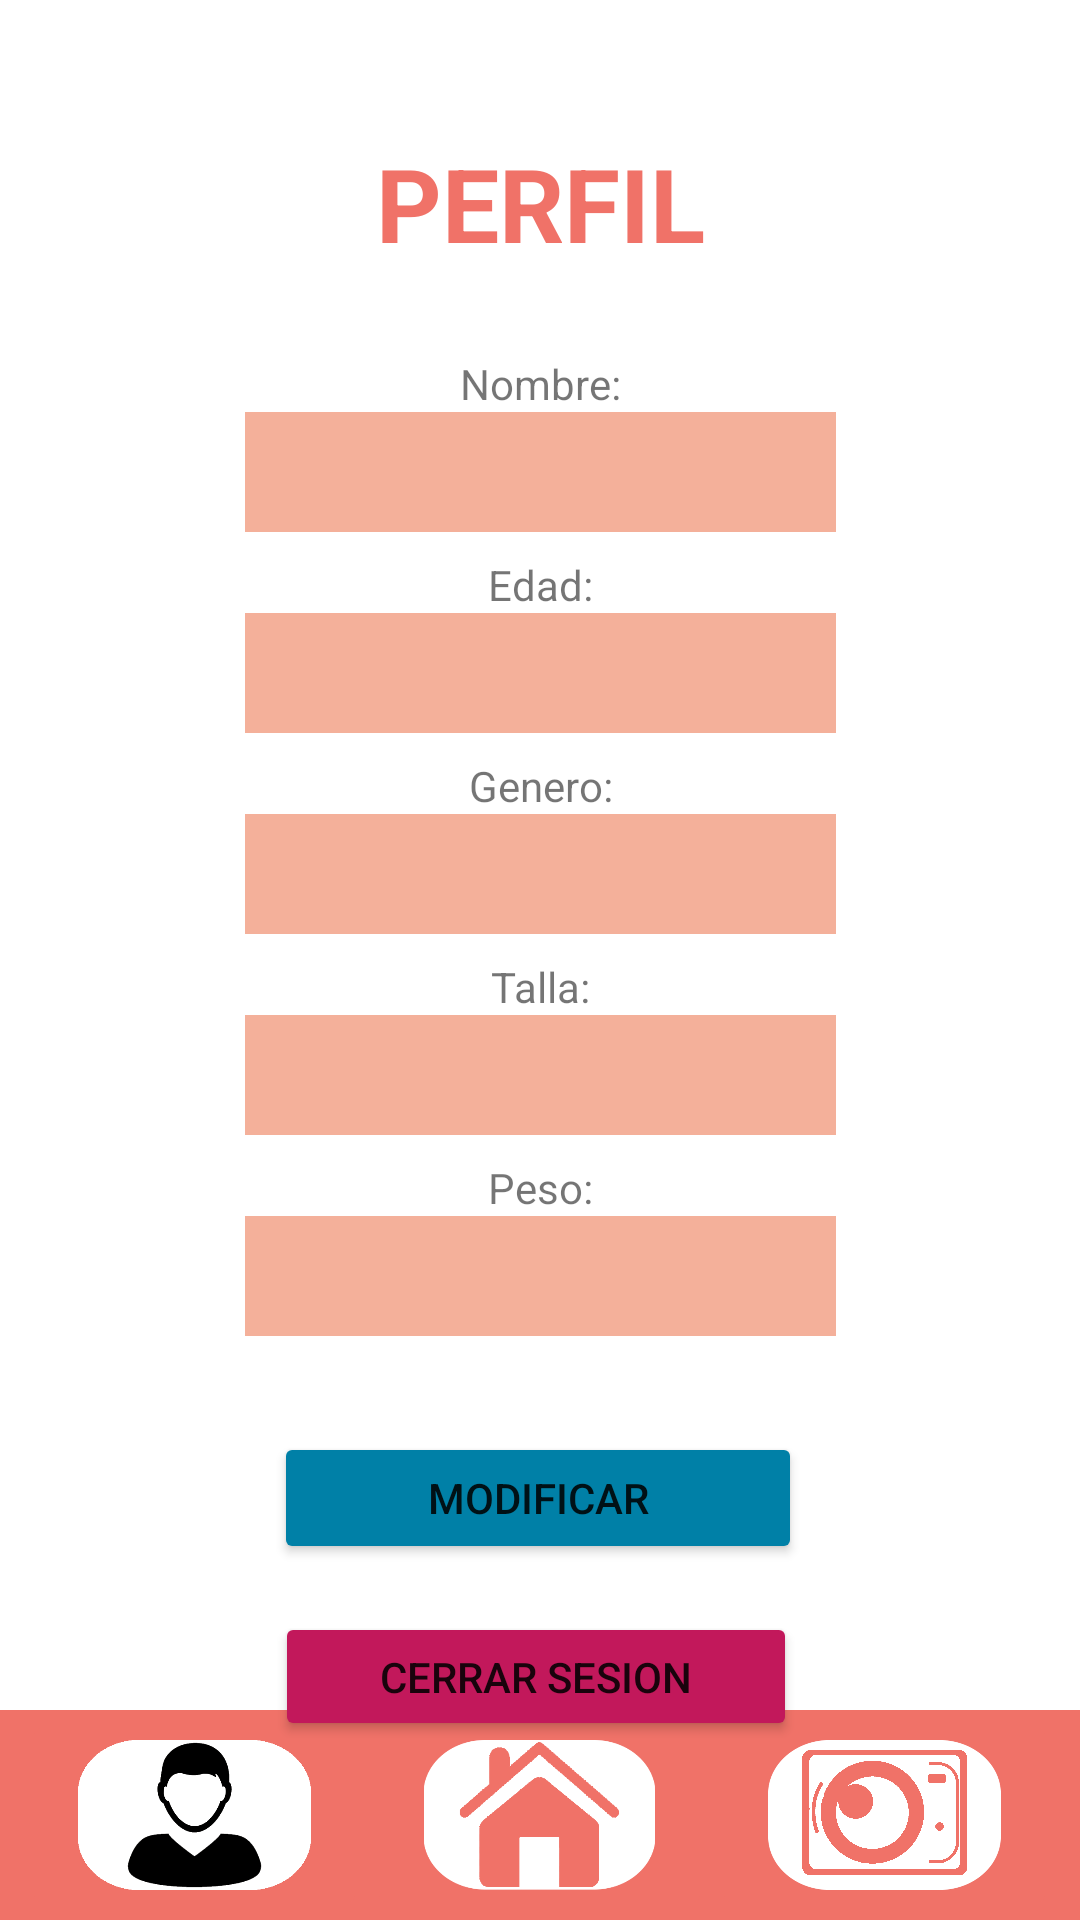

Where to tap for icons on this 1080px x 1920px app screen, as [x,y]:
cam off: [884,1815]
casa on: [539,1815]
user off: [194,1815]
